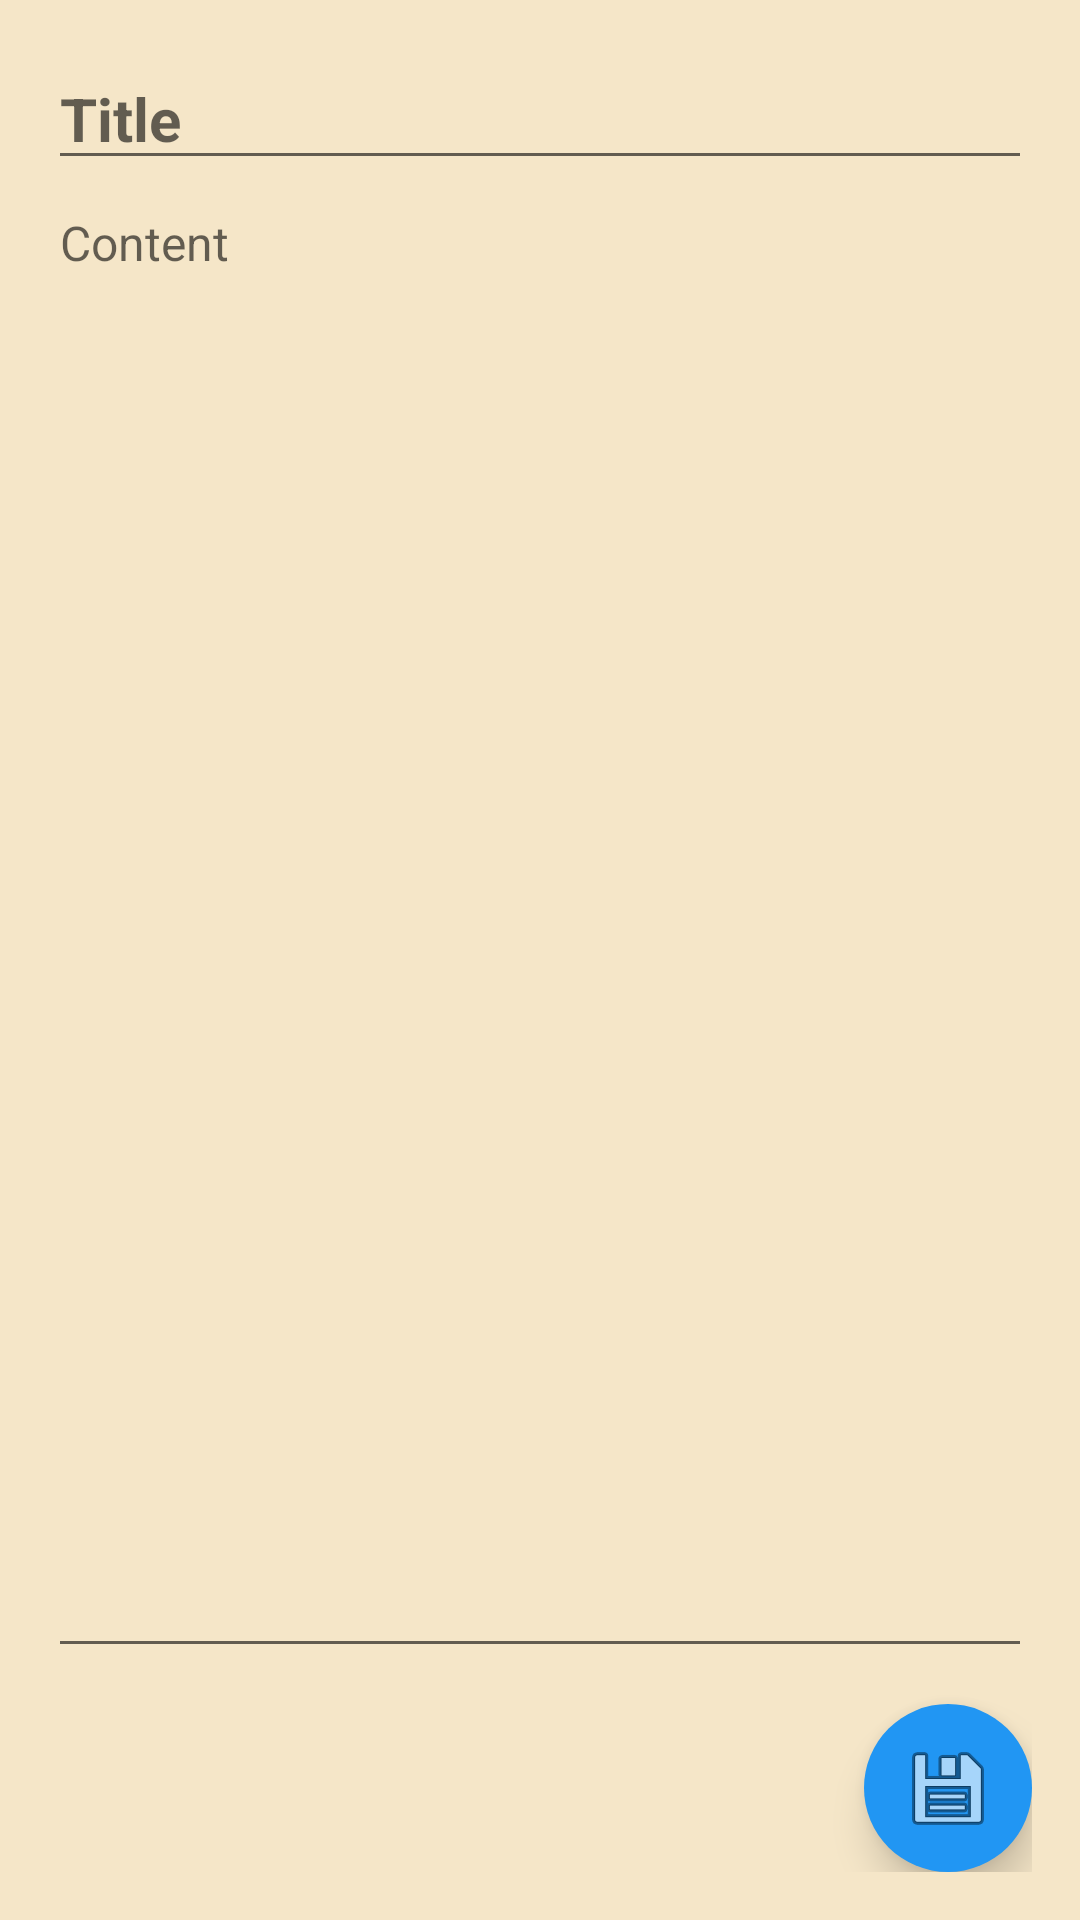

Point at icon controls on the screen. Image size 1080w x 1920h, points as point (x, y).
Save note: point (948, 1788)
